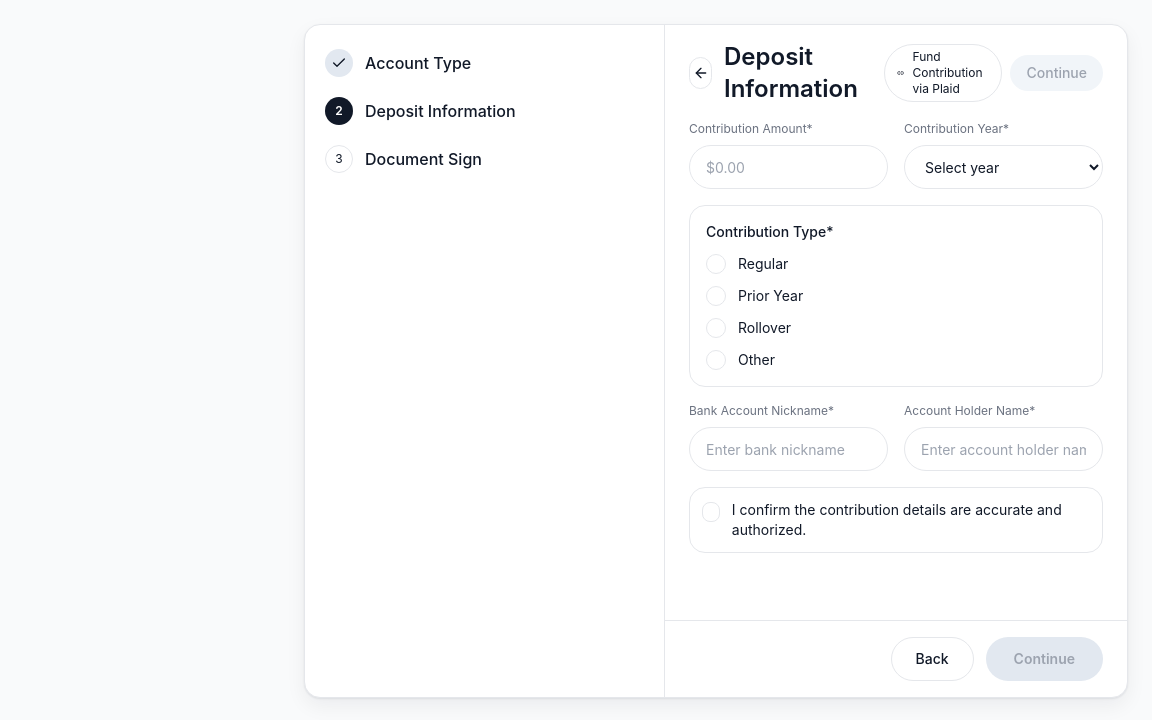
Test: Remaining Pages › ContributePage › moves plaid flow from deposit step to document sign when required fields are completed
The width and height of the screenshot is (1152, 720).
Type "1000" into the field with placeholder "$0.00".
click(788, 167); type("1000")  # box 689,145 -> 888,189
Select "2025" in the dropdown at (1004, 167), box 904,145 -> 1103,189
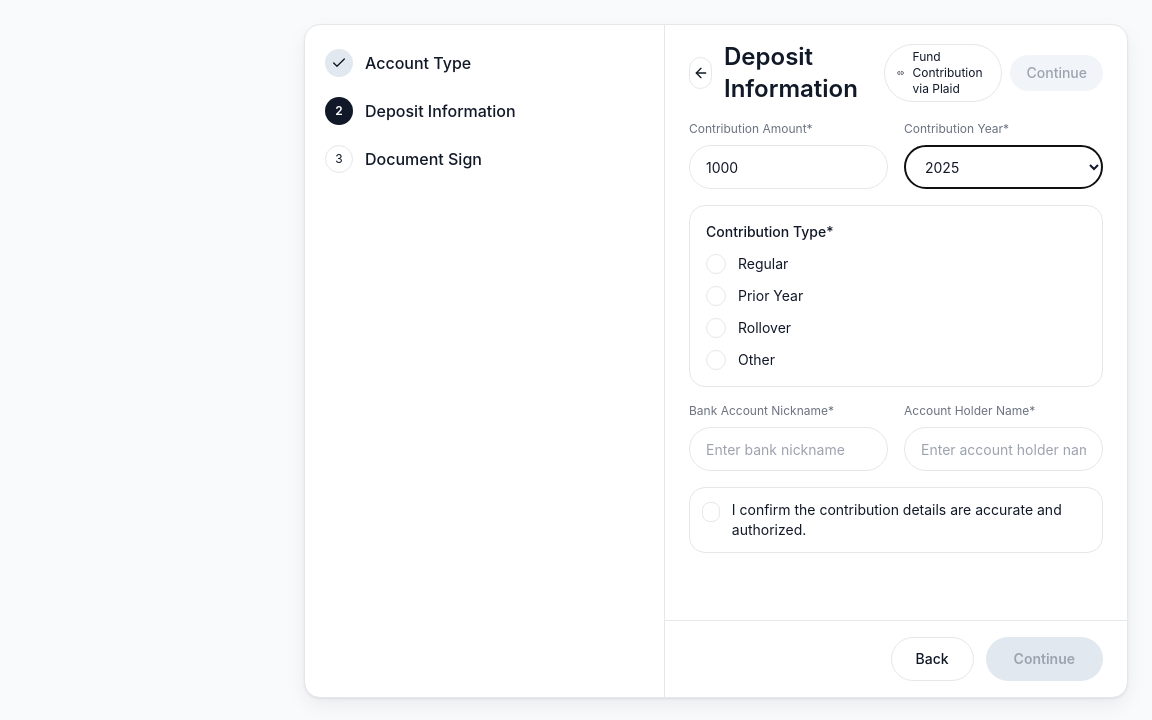
Click the radio button "Regular".
click(747, 264)  # box 706,254 -> 788,274
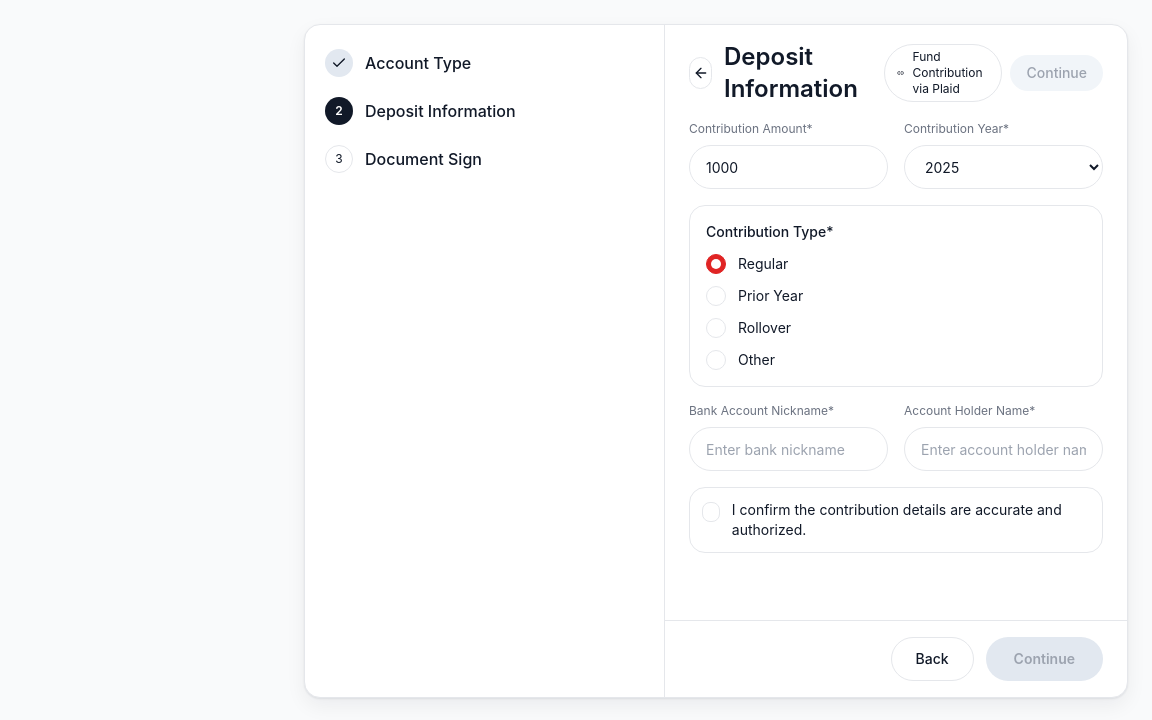
Type "My Bank" into the field with placeholder "Enter bank nickname".
click(788, 449); type("My Bank")  # box 689,427 -> 888,471
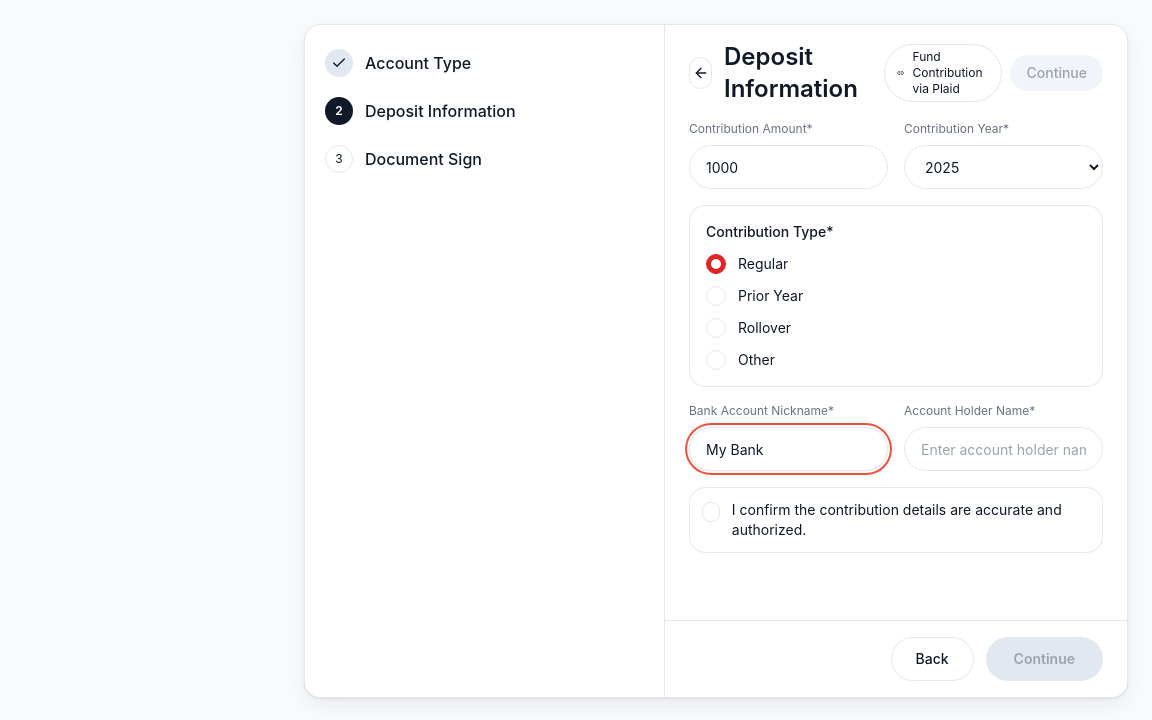
Type "Jordan Williams" into the field with placeholder "Enter account holder name".
click(1004, 449); type("Jordan Williams")  # box 904,427 -> 1103,471
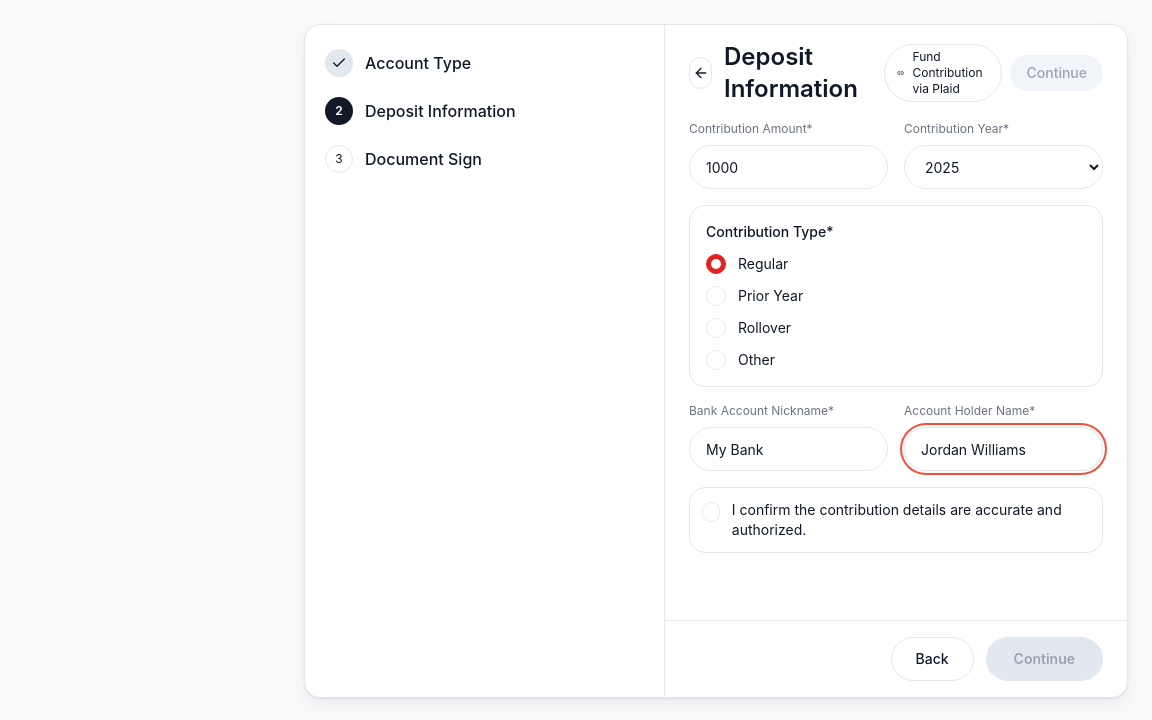
Click the checkbox "I confirm the contribution details are accurate and authorized".
click(896, 520)  # box 689,487 -> 1103,553
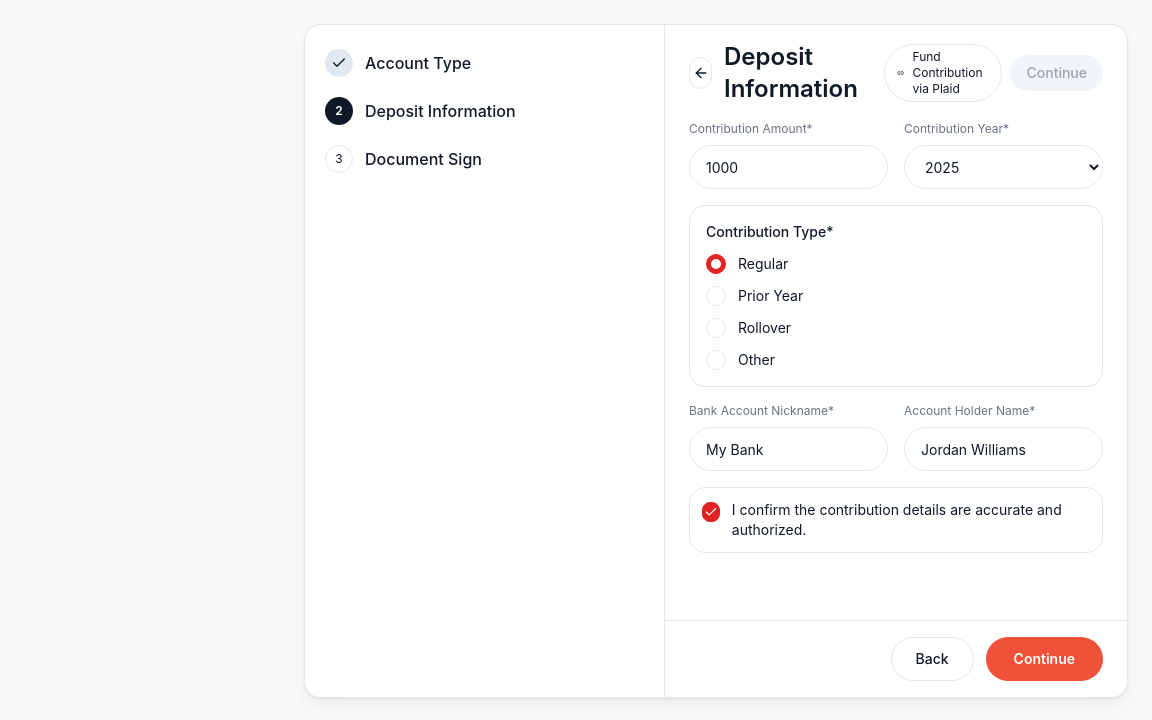
Click the 2nd button "Continue".
click(1044, 659)  # box 986,637 -> 1103,681
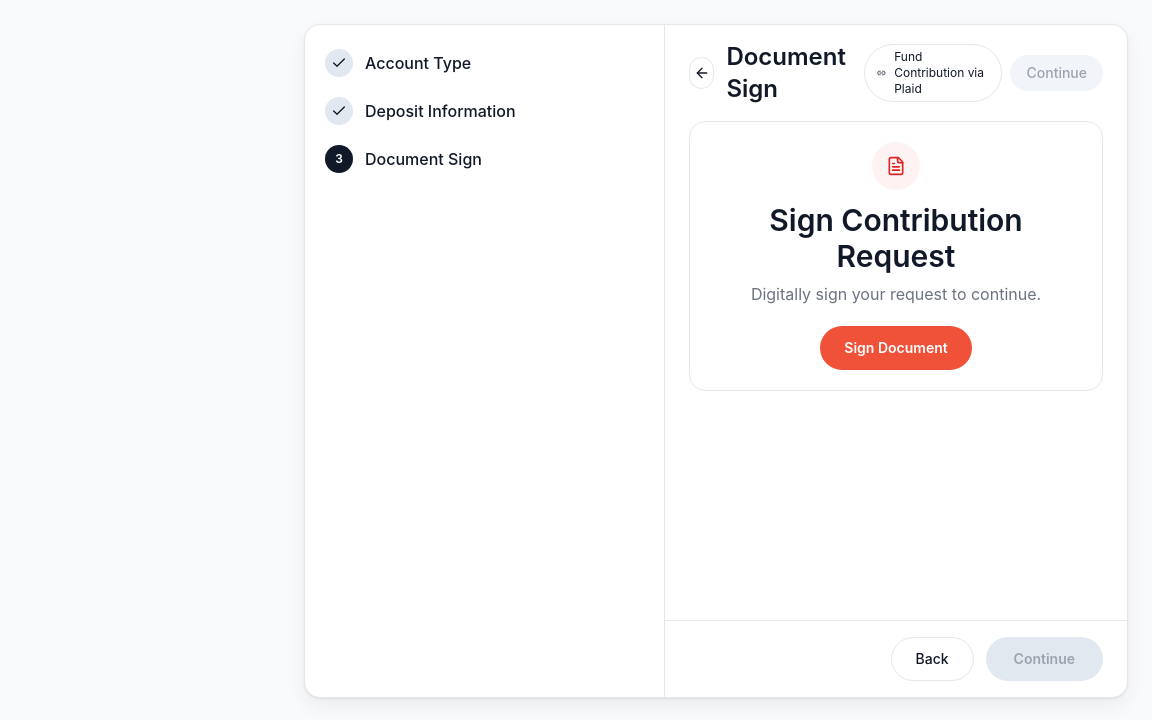
Expected: the heading "Sign Contribution Request" is shown, 769,202 -> 1023,274
